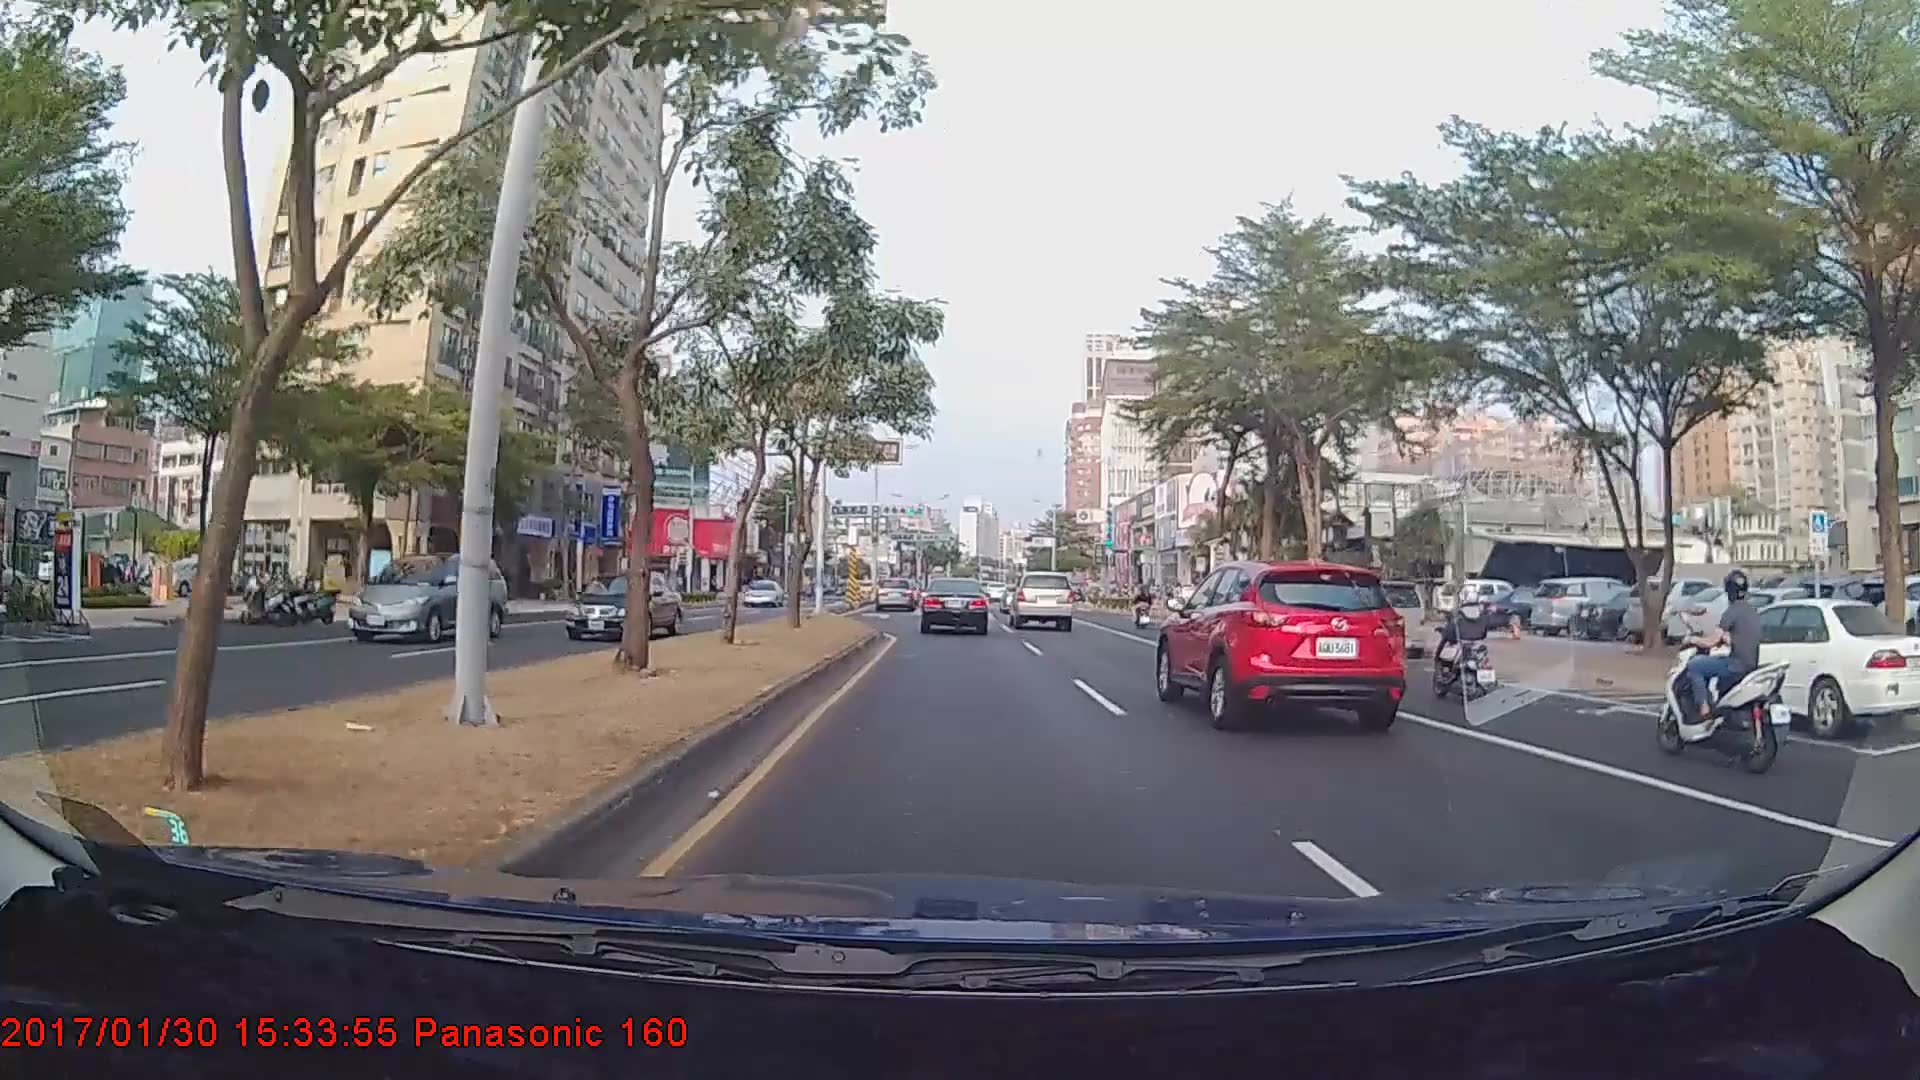rider: (1647, 555, 1799, 770), (1417, 576, 1507, 703), (1133, 578, 1159, 627)
vehicle: (1152, 552, 1405, 729), (1659, 598, 1920, 738), (346, 551, 508, 642), (563, 567, 683, 642), (1327, 578, 1426, 660), (1526, 572, 1648, 635), (1006, 570, 1075, 630), (920, 577, 990, 635), (873, 575, 920, 613), (743, 575, 781, 605)
